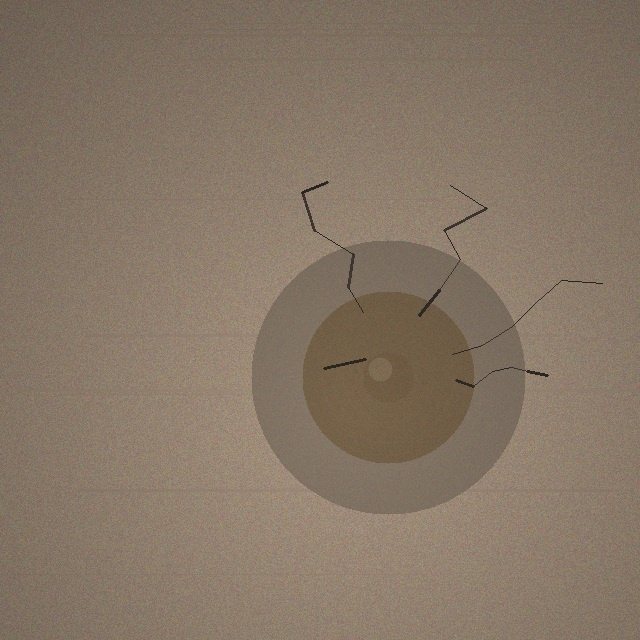crack: (251, 240, 525, 514)
